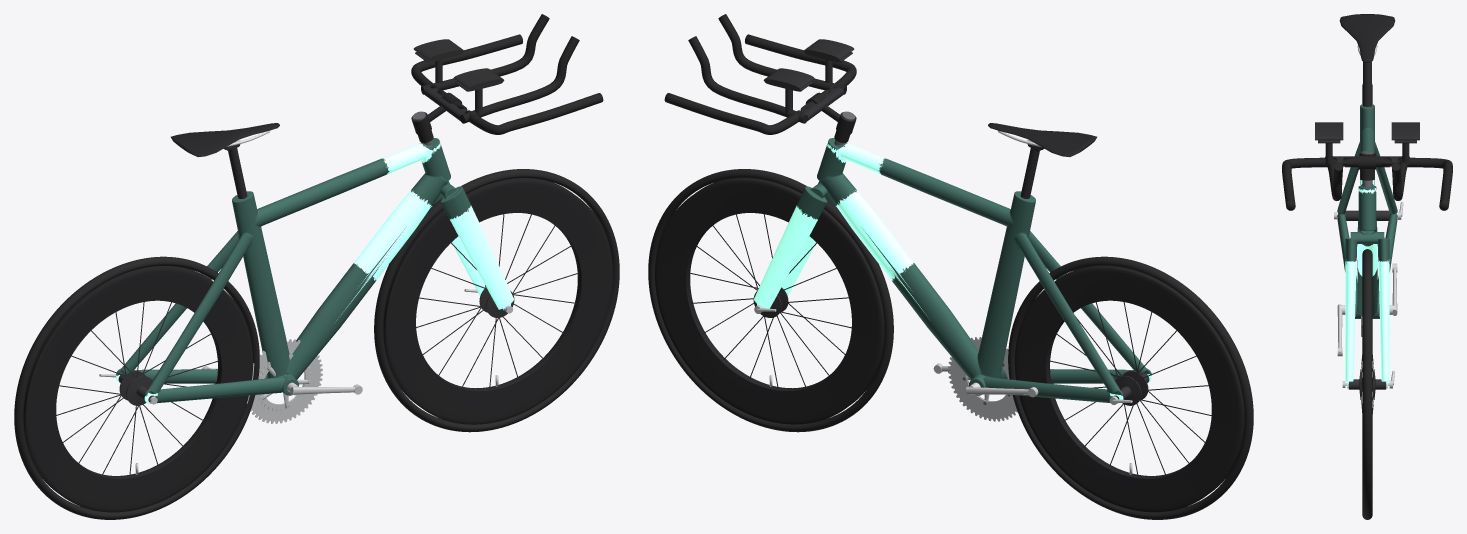
File: bike_web.glb
The picture shows the model from 3 angles, left to right: view 1: azimuth 30°, elevation 25°; view 2: azimuth 150°, elevation 25°; view 3: azimuth 270°, elevation 25°; orthographic projection. The views are drawn at different scales.
Visible parts, largest first — view 1: frame, rim_front, rim_rear, tyre_rear, tyre_front, clipons, fork, basebar, chainrings, spokes_front, saddle, spokes_rear (+3 smaller); view 2: frame, rim_front, rim_rear, tyre_rear, tyre_front, clipons, fork, basebar, chainrings, spokes_front, spokes_rear, saddle (+3 smaller); view 3: frame, fork, tyre_front, clipons, basebar, saddle, crank_arms, stem, seatpost, hub_front, hub_rear.
Part boxes in pixels (bbox=[...]): frame: bbox=[116, 138, 450, 403]; rim_front: bbox=[383, 178, 612, 424]; rim_rear: bbox=[23, 266, 253, 512]; tyre_rear: bbox=[14, 256, 259, 519]; tyre_front: bbox=[374, 169, 619, 432]; clipons: bbox=[413, 14, 579, 123]; fork: bbox=[432, 181, 513, 310]; basebar: bbox=[411, 34, 603, 134]; chainrings: bbox=[246, 339, 322, 423]; spokes_front: bbox=[416, 214, 578, 387]; saddle: bbox=[171, 123, 279, 157]; spokes_rear: bbox=[56, 302, 218, 475]; frame: bbox=[817, 138, 1151, 403]; rim_front: bbox=[655, 178, 884, 424]; rim_rear: bbox=[1014, 266, 1244, 512]; tyre_rear: bbox=[1008, 256, 1253, 519]; tyre_front: bbox=[648, 169, 893, 432]; clipons: bbox=[688, 14, 854, 123]; fork: bbox=[754, 181, 835, 308]; basebar: bbox=[664, 34, 856, 134]; chainrings: bbox=[948, 337, 1017, 421]; spokes_front: bbox=[689, 214, 851, 387]; spokes_rear: bbox=[1049, 302, 1211, 475]; saddle: bbox=[988, 123, 1096, 157]; frame: bbox=[1337, 104, 1397, 318]; fork: bbox=[1345, 232, 1389, 388]; tyre_front: bbox=[1362, 249, 1372, 519]; clipons: bbox=[1315, 122, 1419, 200]; basebar: bbox=[1282, 157, 1452, 210]; saddle: bbox=[1339, 14, 1395, 62]; crank_arms: bbox=[1337, 263, 1397, 356]; stem: bbox=[1359, 151, 1375, 186]; seatpost: bbox=[1363, 61, 1371, 106]; hub_front: bbox=[1347, 369, 1387, 399]; hub_rear: bbox=[1345, 210, 1389, 220].
Bounding box in the file's own units: 1.66 × 1.02 × 0.4241.
